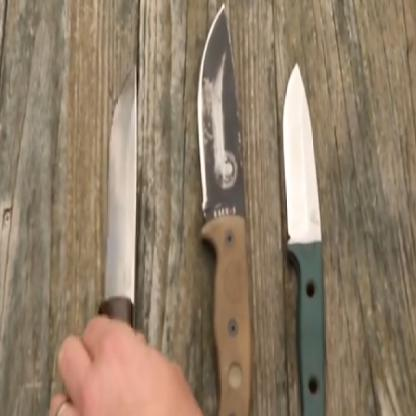knife: (38, 38, 162, 415), (185, 0, 262, 281), (274, 41, 335, 286)
